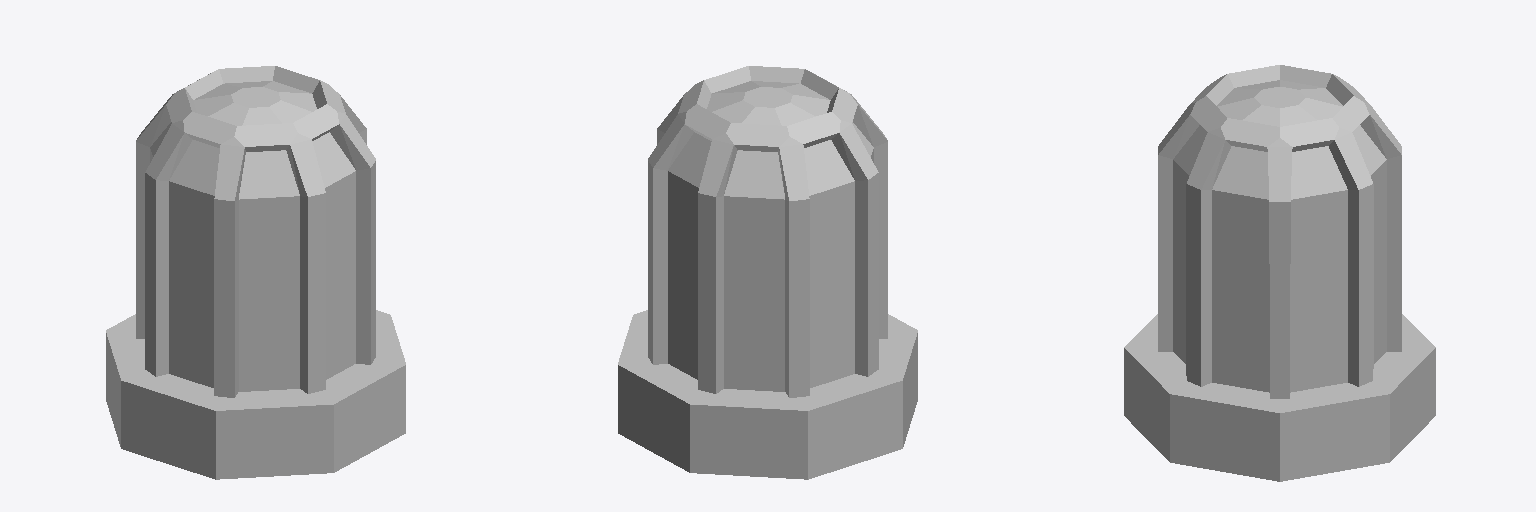
File: Emergency_Light.obj
3 views of the same model, side by side, from view 1: azimuth 30°, elevation 25°; view 2: azimuth 150°, elevation 25°; view 3: azimuth 270°, elevation 25° (orthographic).
Visible parts, largest first — view 1: Alert_Light; view 2: Alert_Light; view 3: Alert_Light.
Boxes of the visible parts, <box> form: Alert_Light: <box>106,66,405,479</box>; Alert_Light: <box>618,66,917,479</box>; Alert_Light: <box>1124,65,1435,481</box>.
Size of the model in its own units: 8.26 by 9.38 by 8.26.